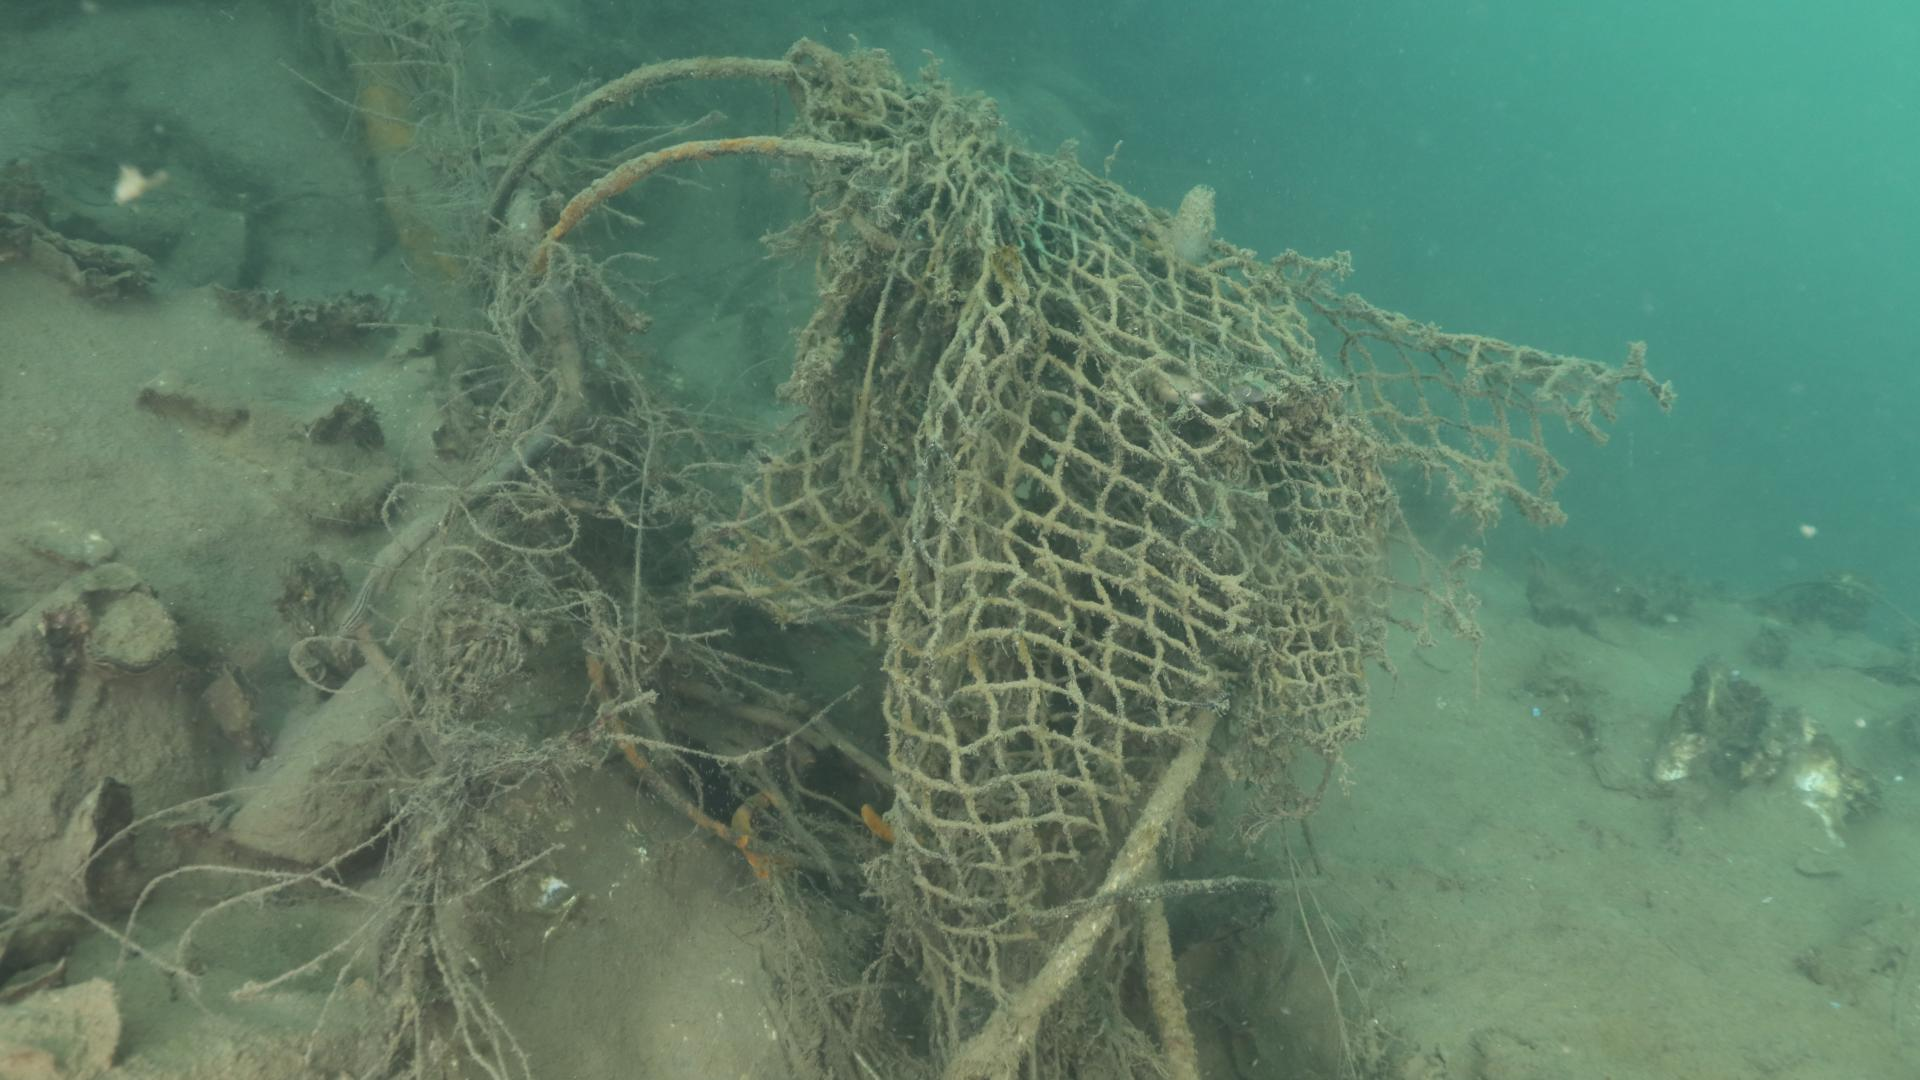fish net: (684, 83, 1621, 1060)
